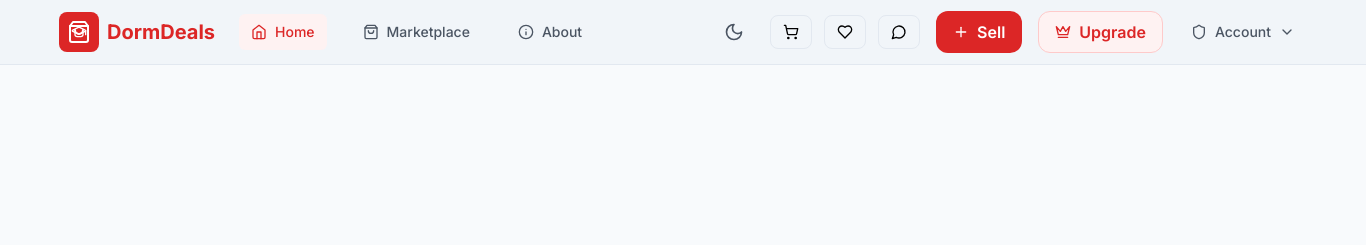
Test: Navbar › Admin and Premium Features › shows admin panel in menu for admin users
The width and height of the screenshot is (1366, 245).
Click the button "Account". click: x=1243, y=32
box: 1179,14 -> 1307,50
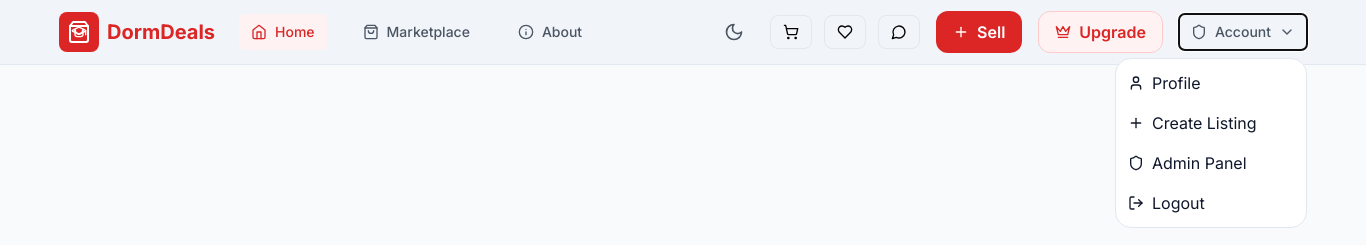
Expected: the link "Admin Panel" is shown, 1128,153 -> 1246,173
